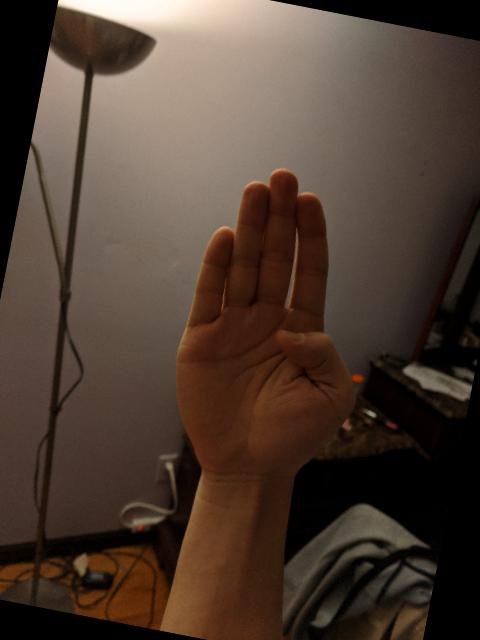B: (146, 150, 400, 510)
